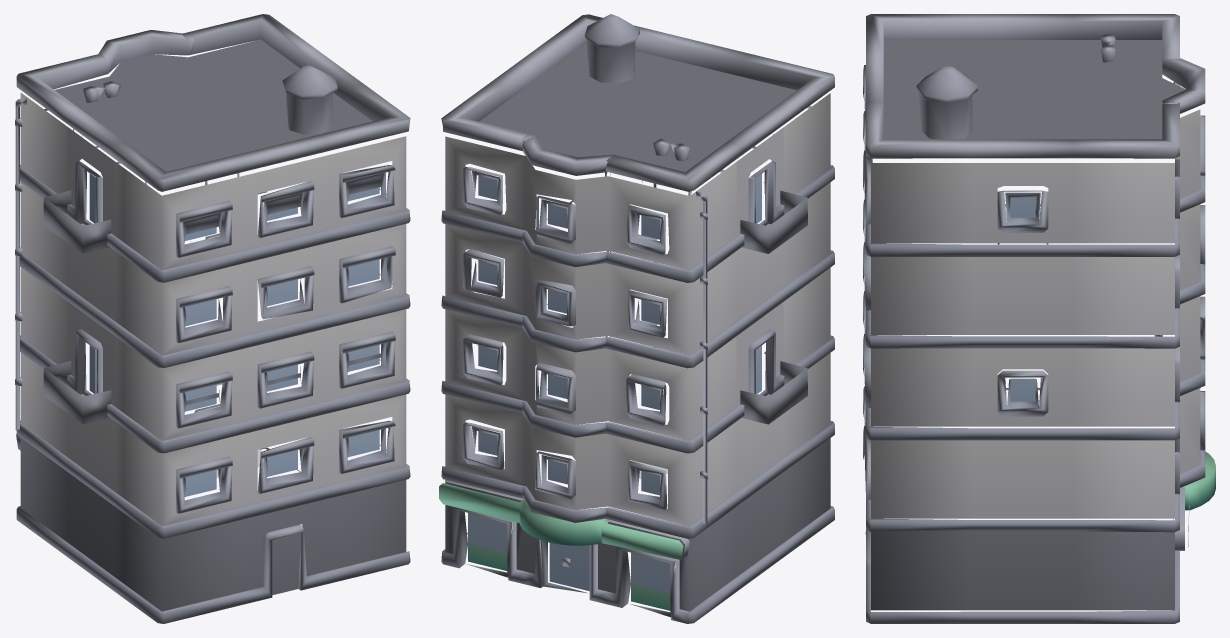
The picture shows the model from 3 angles, left to right: view 1: azimuth 30°, elevation 25°; view 2: azimuth 150°, elevation 25°; view 3: azimuth 270°, elevation 25°; orthographic projection. The views are drawn at different scales.
Bounding box in the file's own units: 10.86 × 18.16 × 11.15.
